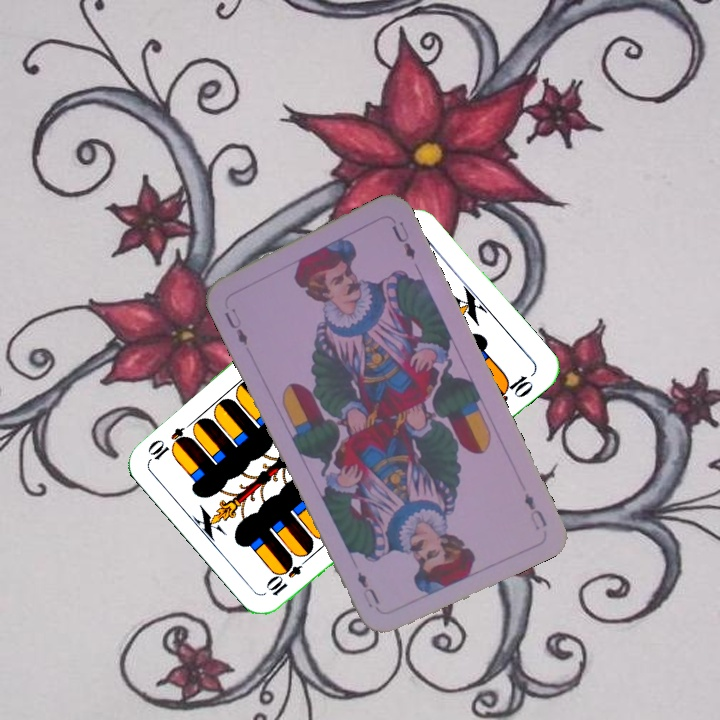E10: (263, 551, 313, 599)
EU: (220, 303, 251, 348), (520, 488, 550, 533)
